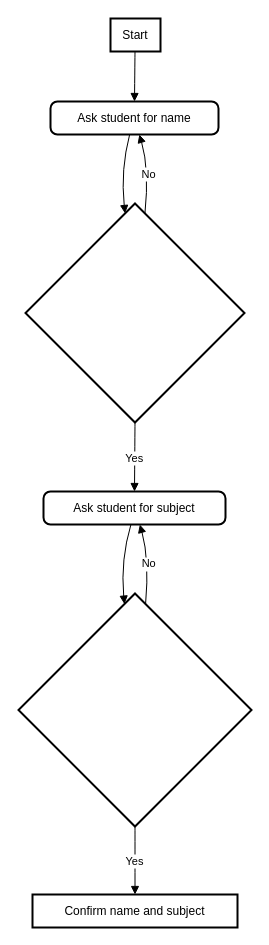
The diagram is 269 pixels wide and 945 high, and some of its shapes have lost their labels. The shapes that lost their labels are listed below. From the top down, each one's centre as x and y in pixels, then its label:
At (134,312): "Student provides name?".
At (134,709): "Student provides subject?".
